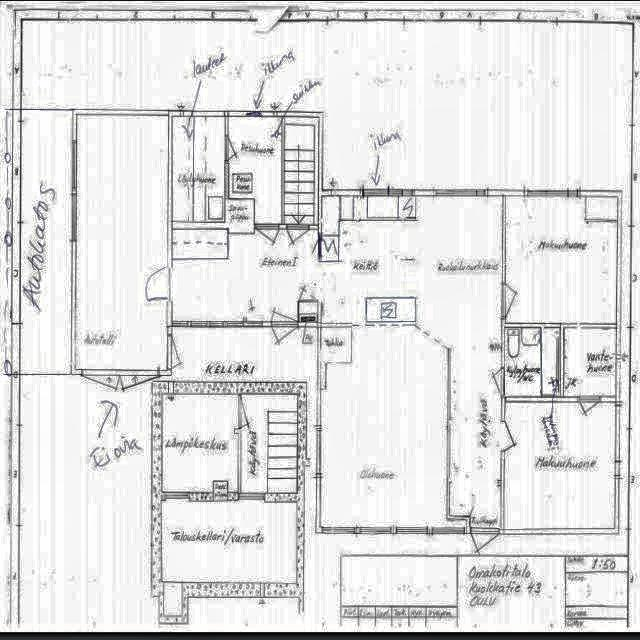room: (75, 115, 168, 370), (161, 501, 297, 617), (504, 401, 616, 530), (505, 196, 617, 324), (162, 395, 239, 492), (172, 117, 225, 221), (505, 328, 560, 397), (564, 328, 616, 397)
